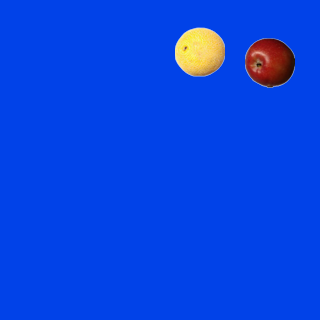Apple Braeburn: (244, 37, 294, 87)
Cantaloupe 1: (174, 26, 224, 76)
